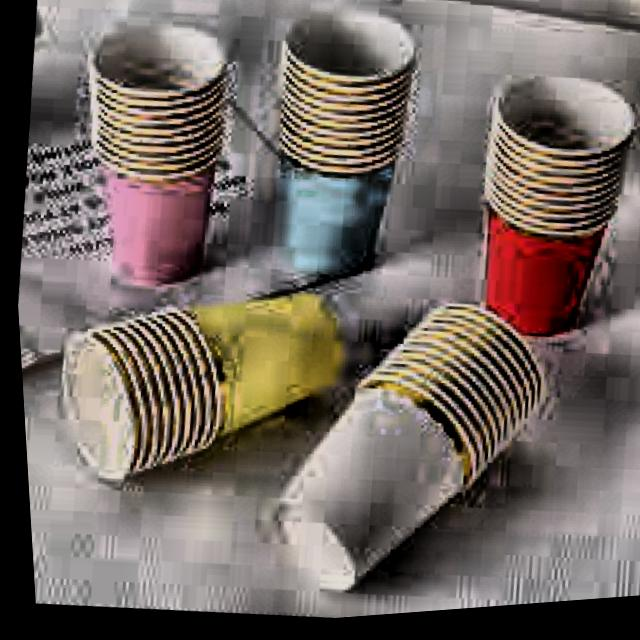Cup: (265, 280, 570, 623), (42, 258, 381, 519), (51, 5, 254, 307), (444, 60, 640, 371), (245, 0, 430, 295)
